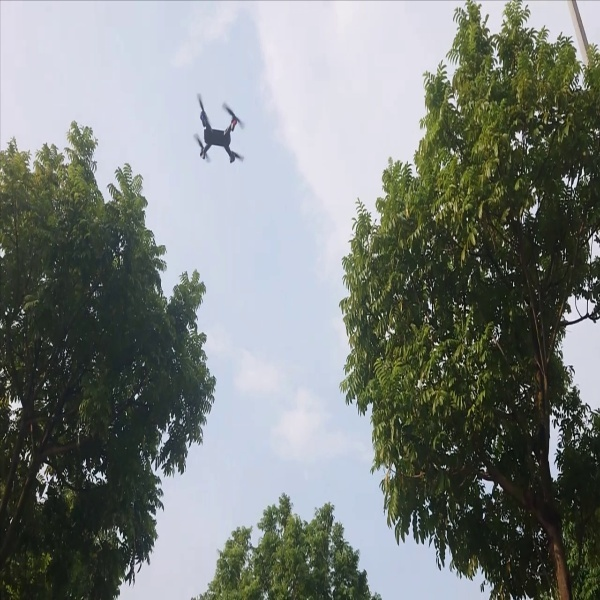drone: (184, 84, 253, 169)
